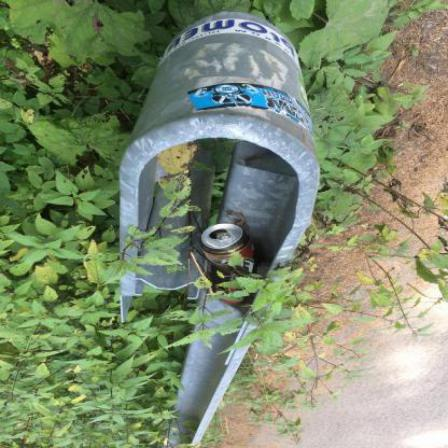Can: (201, 224, 259, 306)
Pop tab: (218, 233, 232, 241)
